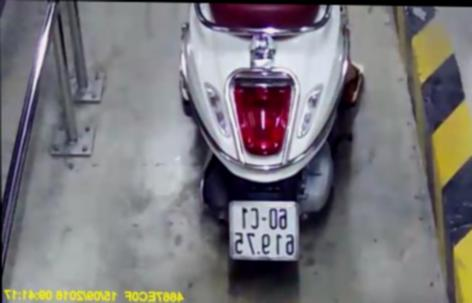License_Plate: (218, 193, 307, 265)
